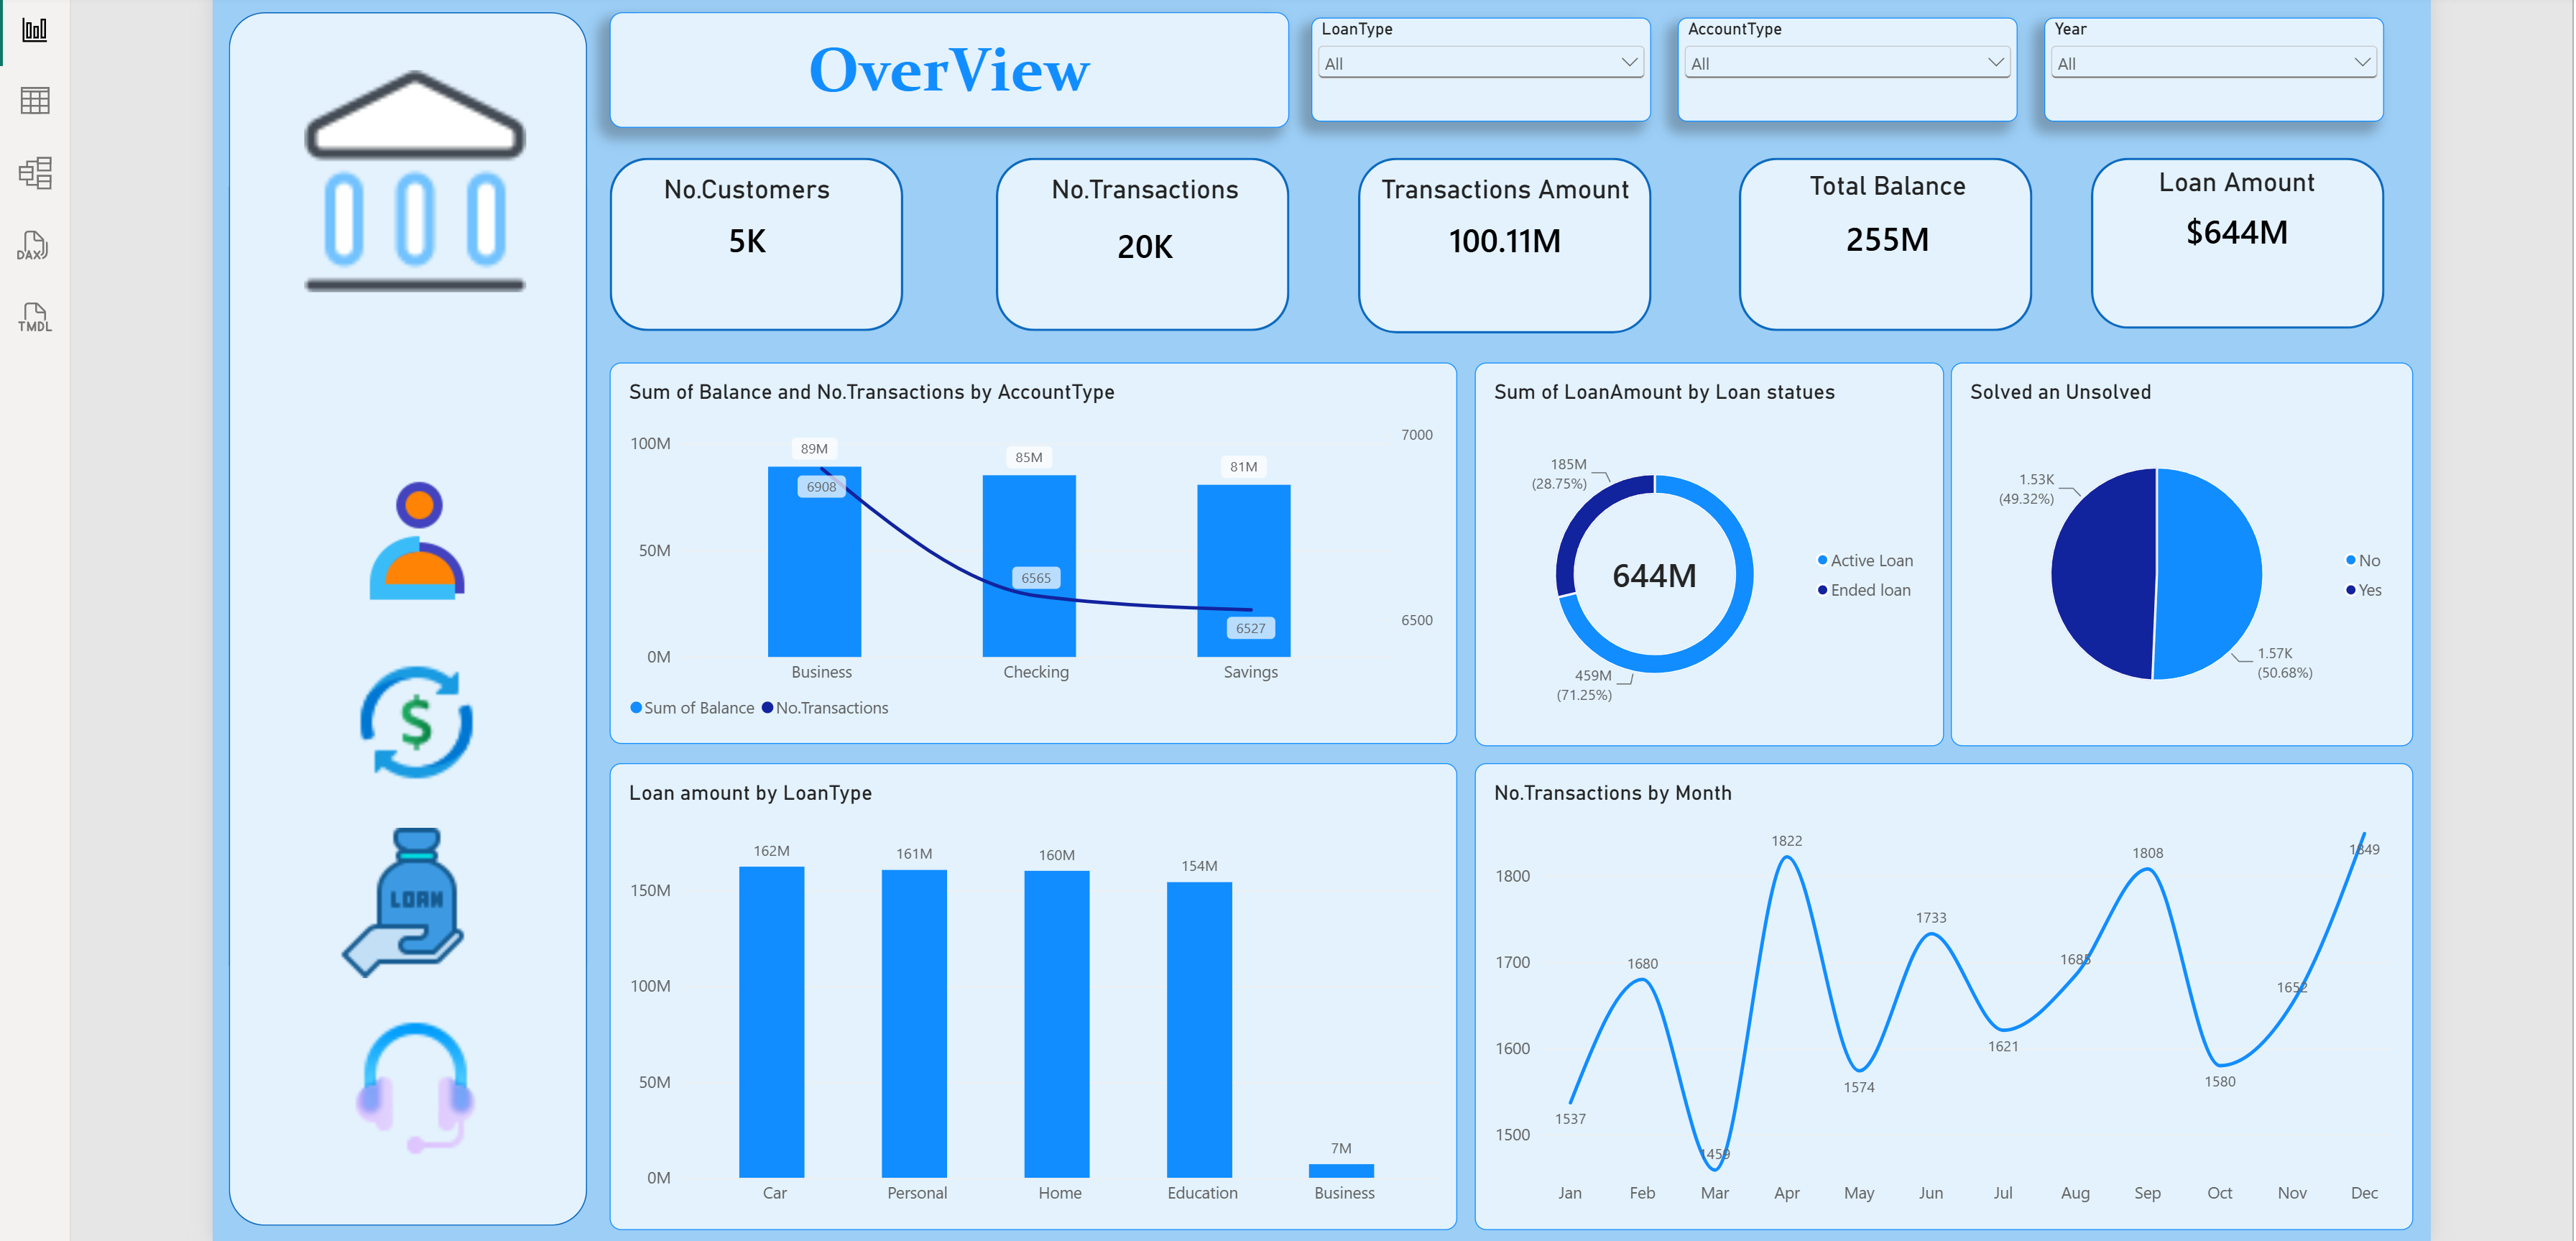

Layout of this report page (visuals, bound fields, positions):
{"tool":"powerbi","page":{"name":"Overview","canvas":[1920,1080],"ordinal":0},"visuals":[{"type":"shape","title":"Over","box":[344,16,588,100],"z":0},{"type":"shape","box":[14,16,310,1050],"z":1000},{"type":"shape","box":[1626,142,254,148],"z":2000},{"type":"shape","box":[1322,142,254,150],"z":3000},{"type":"shape","box":[992,142,254,152],"z":4000},{"type":"shape","box":[678,142,254,150],"z":5000},{"type":"shape","box":[344,142,254,150],"z":6000},{"type":"slicer","fields":{"Values":["calender.Year"]},"box":[1586,20,294,90],"z":7000},{"type":"cardVisual","title":"Loan Amount","fields":{"Data":["Customers calculations.Loan amount"]},"box":[1642,150,222,68],"z":8000},{"type":"cardVisual","fields":{"Data":["Customers calculations.show"]},"box":[384,232,126,56],"z":9000},{"type":"cardVisual","fields":{"Data":["Customers calculations.show.transactions"]},"box":[706,232,132,56],"z":10000},{"type":"cardVisual","fields":{"Data":["Customers calculations.show amount.tran"]},"box":[1048,236,122,56],"z":11000},{"type":"cardVisual","fields":{"Data":["Customers calculations.show.balance"]},"box":[1352,232,134,56],"z":12000},{"type":"lineClusteredColumnComboChart","fields":{"Category":["Accounts.AccountType"],"Y":["Sum(Accounts.Balance)"],"Y2":["Customers calculations.No.Transactions"]},"box":[344,318,734,330],"z":13000},{"type":"pieChart","title":"Solved an Unsolved","fields":{"Category":["SupportCalls.Resolved"],"Y":["CountNonNull(SupportCalls.CallID)"]},"box":[1504,318,400,332],"z":14000},{"type":"lineChart","title":"No.Transactions by Month","fields":{"Category":["calender.Month Name"],"Y":["Customers calculations.No.Transactions"]},"box":[1092,666,812,404],"z":15000},{"type":"columnChart","fields":{"Category":["Loans.LoanType"],"Y":["Customers calculations.Loan amount"]},"box":[344,666,734,404],"z":16000},{"type":"donutChart","fields":{"Category":["Loans.Loan statues"],"Y":["Sum(Loans.LoanAmount)"]},"box":[1092,318,406,332],"z":17000},{"type":"cardVisual","fields":{"Data":["Customers calculations.arrow cust"]},"box":[510,232,62,56],"z":18000},{"type":"cardVisual","fields":{"Data":["Customers calculations.arrow.trans"]},"box":[856,232,60,56],"z":19000},{"type":"cardVisual","fields":{"Data":["Customers calculations.arrow.amountTR"]},"box":[1188,234,58,54],"z":20000},{"type":"cardVisual","fields":{"Data":["Customers calculations.arrow.balance"]},"box":[1504,232,60,58],"z":21000},{"type":"cardVisual","fields":{"Data":["Customers calculations.show loan"]},"box":[1668,226,130,56],"z":22000},{"type":"cardVisual","fields":{"Data":["Customers calculations.arrow.loan"]},"box":[1806,226,58,54],"z":23000},{"type":"cardVisual","title":"Total Balance","fields":{"Data":["Customers calculations.Total Balance"]},"box":[1324,152,252,74],"z":24000},{"type":"cardVisual","title":"Transactions Amount","fields":{"Data":["Customers calculations.Amount Transactions"]},"box":[1010,156,218,70],"z":25000},{"type":"cardVisual","title":"No.Transactions","fields":{"Data":["Customers calculations.No.Transactions"]},"box":[698,156,218,80],"z":26000},{"type":"cardVisual","title":"No.Customers","fields":{"Data":["Customers calculations.No.Customers"]},"box":[368,156,188,70],"z":27000},{"type":"image","box":[80,64,192,196],"z":28000},{"type":"slicer","fields":{"Values":["Accounts.AccountType"]},"box":[1268,20,294,90],"z":29000},{"type":"slicer","fields":{"Values":["Loans.LoanType"]},"box":[952,20,294,90],"z":30000},{"type":"image","box":[74,408,206,134],"z":31000},{"type":"image","box":[58,722,214,130],"z":32000},{"type":"image","box":[66,572,222,116],"z":33000},{"type":"image","box":[116,888,118,118],"z":34000}]}

Visuals, with their boxes on the page's 1920x1080 design canvas (x1, y1, x2, y2). These are canvas units, not pixel positions in the 2576x1241 screenshot, which may show the page scaled, cropped or inside an application window:
"Over" shape: bbox=(344, 16, 932, 116)
shape: bbox=(14, 16, 324, 1066)
shape: bbox=(1626, 142, 1880, 290)
shape: bbox=(1322, 142, 1576, 292)
shape: bbox=(992, 142, 1246, 294)
shape: bbox=(678, 142, 932, 292)
shape: bbox=(344, 142, 598, 292)
slicer - calender.Year: bbox=(1586, 20, 1880, 110)
"Loan Amount" cardVisual: bbox=(1642, 150, 1864, 218)
cardVisual - Customers calculations.show: bbox=(384, 232, 510, 288)
cardVisual - Customers calculations.show.transactions: bbox=(706, 232, 838, 288)
cardVisual - Customers calculations.show amount.tran: bbox=(1048, 236, 1170, 292)
cardVisual - Customers calculations.show.balance: bbox=(1352, 232, 1486, 288)
lineClusteredColumnComboChart - Accounts.AccountType x Sum(Accounts.Balance): bbox=(344, 318, 1078, 648)
"Solved an Unsolved" pieChart: bbox=(1504, 318, 1904, 650)
"No.Transactions by Month" lineChart: bbox=(1092, 666, 1904, 1070)
columnChart - Loans.LoanType x Customers calculations.Loan amount: bbox=(344, 666, 1078, 1070)
donutChart - Loans.Loan statues x Sum(Loans.LoanAmount): bbox=(1092, 318, 1498, 650)
cardVisual - Customers calculations.arrow cust: bbox=(510, 232, 572, 288)
cardVisual - Customers calculations.arrow.trans: bbox=(856, 232, 916, 288)
cardVisual - Customers calculations.arrow.amountTR: bbox=(1188, 234, 1246, 288)
cardVisual - Customers calculations.arrow.balance: bbox=(1504, 232, 1564, 290)
cardVisual - Customers calculations.show loan: bbox=(1668, 226, 1798, 282)
cardVisual - Customers calculations.arrow.loan: bbox=(1806, 226, 1864, 280)
"Total Balance" cardVisual: bbox=(1324, 152, 1576, 226)
"Transactions Amount" cardVisual: bbox=(1010, 156, 1228, 226)
"No.Transactions" cardVisual: bbox=(698, 156, 916, 236)
"No.Customers" cardVisual: bbox=(368, 156, 556, 226)
image: bbox=(80, 64, 272, 260)
slicer - Accounts.AccountType: bbox=(1268, 20, 1562, 110)
slicer - Loans.LoanType: bbox=(952, 20, 1246, 110)
image: bbox=(74, 408, 280, 542)
image: bbox=(58, 722, 272, 852)
image: bbox=(66, 572, 288, 688)
image: bbox=(116, 888, 234, 1006)
